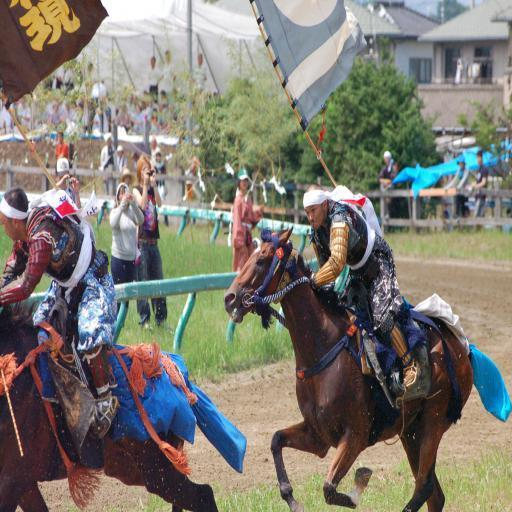horse: (223, 224, 475, 512), (0, 292, 218, 512)
